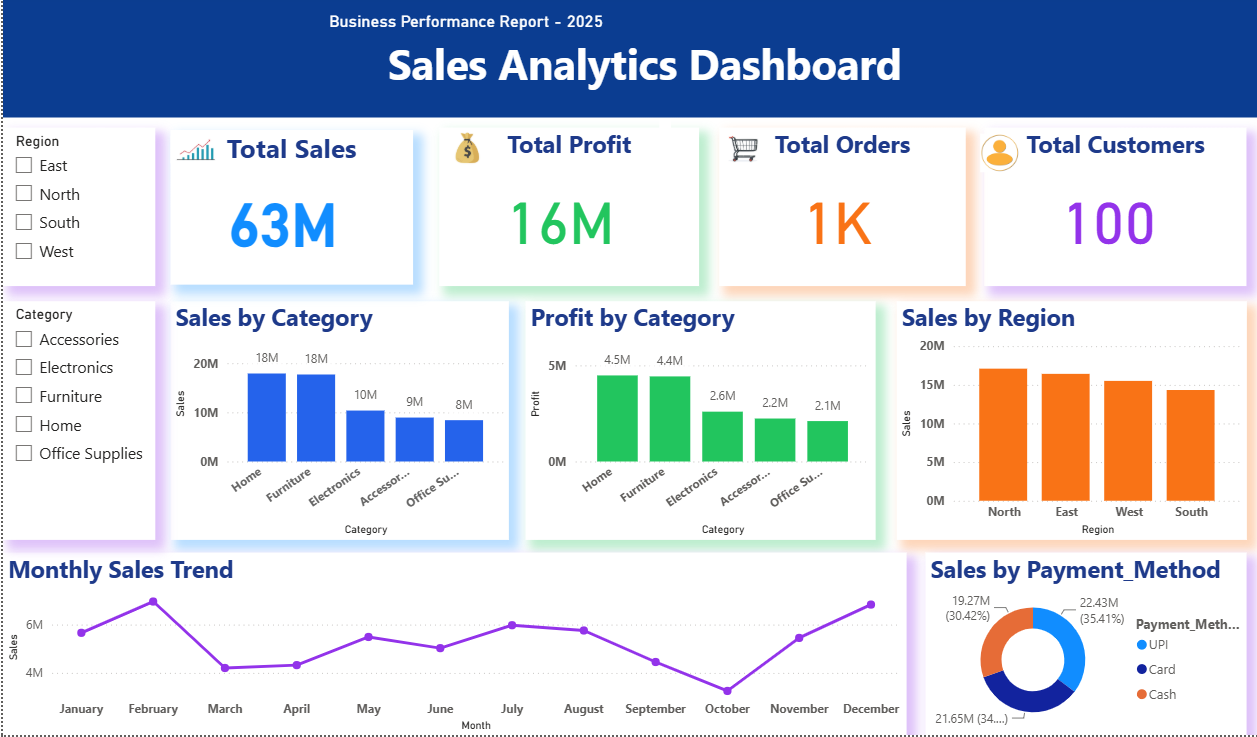

The dashboard page shown, as its layout file describes it:
{"tool":"powerbi","page":{"name":"Page 1","canvas":[1280,750],"ordinal":0},"visuals":[{"type":"advanceCardE03760C5AB684758B56AA29F9E6C257B","title":"Total Profit","fields":{"mainMeasure":["Sum(salesanalytics order.Profit)"]},"box":[444.6,129.9,264.9,161.8],"z":0},{"type":"advanceCardE03760C5AB684758B56AA29F9E6C257B","fields":{"mainMeasure":["CountNonNull(salesanalytics order.Order_ID)"]},"box":[668.3,11,12.3,279.9],"z":1000},{"type":"advanceCardE03760C5AB684758B56AA29F9E6C257B","title":"Total Customers","fields":{"mainMeasure":["CountNonNull(salesanalytics customer.Customer_ID)"]},"box":[999.9,129.9,267.5,161.8],"z":2000},{"type":"advanceCardE03760C5AB684758B56AA29F9E6C257B","title":"Total Orders","fields":{"mainMeasure":["CountNonNull(salesanalytics order.Order_ID)"]},"box":[729.9,129.9,250.9,161.8],"z":3000},{"type":"lineClusteredColumnComboChart","fields":{"Category":["salesanalytics products.Category"],"Y":["Sum(salesanalytics order.Sales)"]},"box":[170.7,307,345.2,243.3],"z":4000},{"type":"lineClusteredColumnComboChart","fields":{"Category":["salesanalytics products.Category"],"Y":["Sum(salesanalytics order.Profit)"]},"box":[532.4,307,356.7,243.3],"z":5000},{"type":"lineClusteredColumnComboChart","fields":{"Category":["salesanalytics customer.Region"],"Y":["Sum(salesanalytics order.Sales)"]},"box":[910.8,307,356.7,243.3],"z":6000},{"type":"lineChart","title":"Monthly Sales Trend","fields":{"Y":["Sum(salesanalytics order.Sales)"],"Category":["salesanalytics order.Order_Date.Variation.Date Hierarchy.Month"]},"box":[0,563,920.9,187.2],"z":7000},{"type":"slicer","fields":{"Values":["salesanalytics customer.Region"]},"box":[0,129.9,155.4,161.8],"z":8000},{"type":"slicer","fields":{"Values":["salesanalytics products.Category"]},"box":[0,307,155.4,243.3],"z":9000},{"type":"shape","box":[0,0,1280.2,119.7],"z":10000},{"type":"textbox","title":"Business Performance Report - 2025","box":[327.4,11.5,653.5,96.8],"z":11000},{"type":"advanceCardE03760C5AB684758B56AA29F9E6C257B","title":"Total Sales","fields":{"mainMeasure":["Sum(salesanalytics order.Sales)"]},"box":[170.7,132.5,247.1,157.9],"z":12000},{"type":"image","box":[170.7,131.2,52.2,42],"z":13000},{"type":"image","box":[444.6,132.5,58.6,35.7],"z":14000},{"type":"image","box":[729.9,136.3,48.4,29.3],"z":15000},{"type":"image","box":[991,136.3,48.4,39.5],"z":16000},{"type":"donutChart","title":"Sales by Payment_Method","fields":{"Category":["salesanalytics order.Payment_Method"],"Y":["Sum(salesanalytics order.Sales)"]},"box":[940.1,563,327.4,187.2],"z":17000}]}

Visuals, with their boxes in screenshot pixels (x1, y1, x2, y2), scaled from the page's 1280x750 canvas onto the 1257x737 screenshot:
"Total Profit" advanceCardE03760C5AB684758B56AA29F9E6C257B: bbox=[437, 128, 697, 287]
advanceCardE03760C5AB684758B56AA29F9E6C257B - CountNonNull(salesanalytics order.Order_ID): bbox=[656, 11, 668, 286]
"Total Customers" advanceCardE03760C5AB684758B56AA29F9E6C257B: bbox=[982, 128, 1245, 287]
"Total Orders" advanceCardE03760C5AB684758B56AA29F9E6C257B: bbox=[717, 128, 963, 287]
lineClusteredColumnComboChart - salesanalytics products.Category x Sum(salesanalytics order.Sales): bbox=[168, 302, 507, 541]
lineClusteredColumnComboChart - salesanalytics products.Category x Sum(salesanalytics order.Profit): bbox=[523, 302, 873, 541]
lineClusteredColumnComboChart - salesanalytics customer.Region x Sum(salesanalytics order.Sales): bbox=[894, 302, 1245, 541]
"Monthly Sales Trend" lineChart: bbox=[0, 553, 904, 736]
slicer - salesanalytics customer.Region: bbox=[0, 128, 153, 287]
slicer - salesanalytics products.Category: bbox=[0, 302, 153, 541]
shape: bbox=[0, 0, 1256, 118]
"Business Performance Report - 2025" textbox: bbox=[322, 11, 963, 106]
"Total Sales" advanceCardE03760C5AB684758B56AA29F9E6C257B: bbox=[168, 130, 410, 285]
image: bbox=[168, 129, 219, 170]
image: bbox=[437, 130, 494, 165]
image: bbox=[717, 134, 764, 163]
image: bbox=[973, 134, 1021, 173]
"Sales by Payment_Method" donutChart: bbox=[923, 553, 1245, 736]
